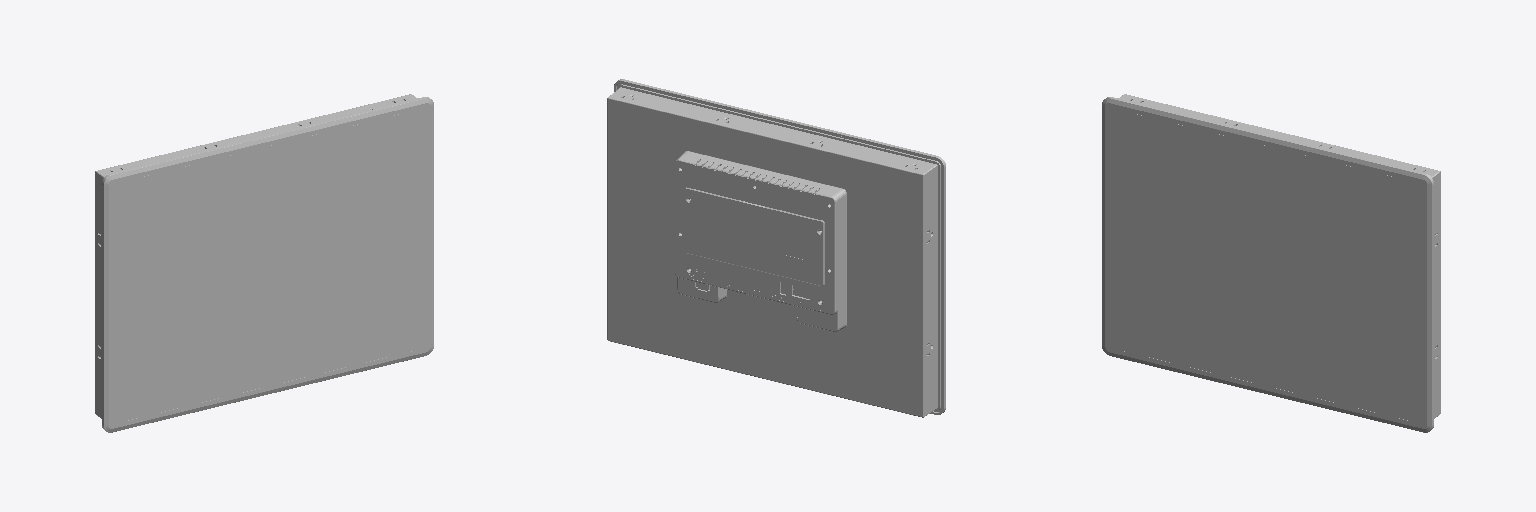
Rendered from objExample.obj.
3 renders of one model, left to right at view 1: azimuth 30°, elevation 25°; view 2: azimuth 150°, elevation 25°; view 3: azimuth 330°, elevation 25°, orthographic.
Visible parts, largest first — view 1: obj2; view 2: obj2, obj3, obj1; view 3: obj2.
Part boxes in pixels (x1,y1,x2,y2): obj2: (95,94,433,432); obj2: (607,79,945,417); obj3: (685,187,824,304); obj1: (621,94,932,355); obj2: (1102,94,1440,432).
Bounding box in the file's own units: 399 × 298 × 57.3.